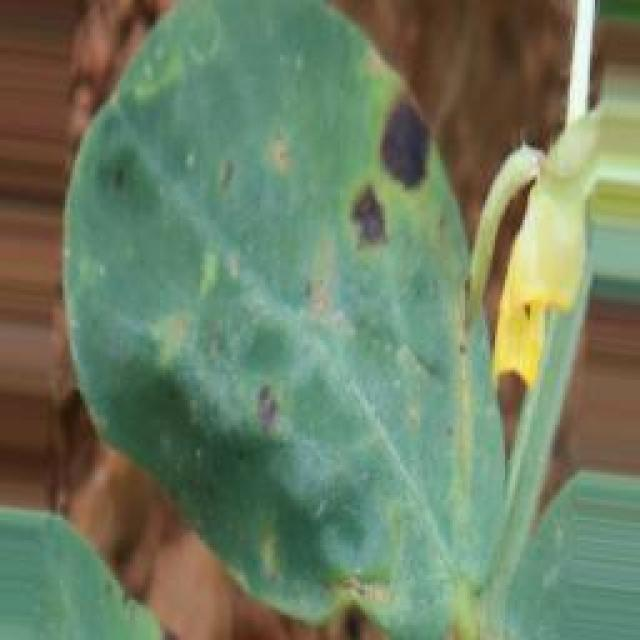Yellowish: (77, 0, 605, 575)
